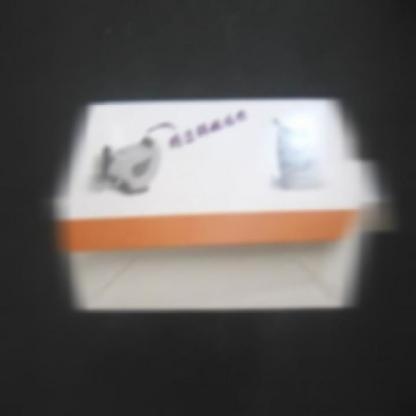-: (57, 94, 372, 321)
